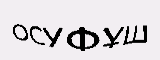А: (32, 11, 50, 39)
Б: (85, 2, 100, 30)
Ж: (48, 6, 70, 35)
Т: (69, 2, 86, 30)
Ш: (99, 7, 125, 35)
